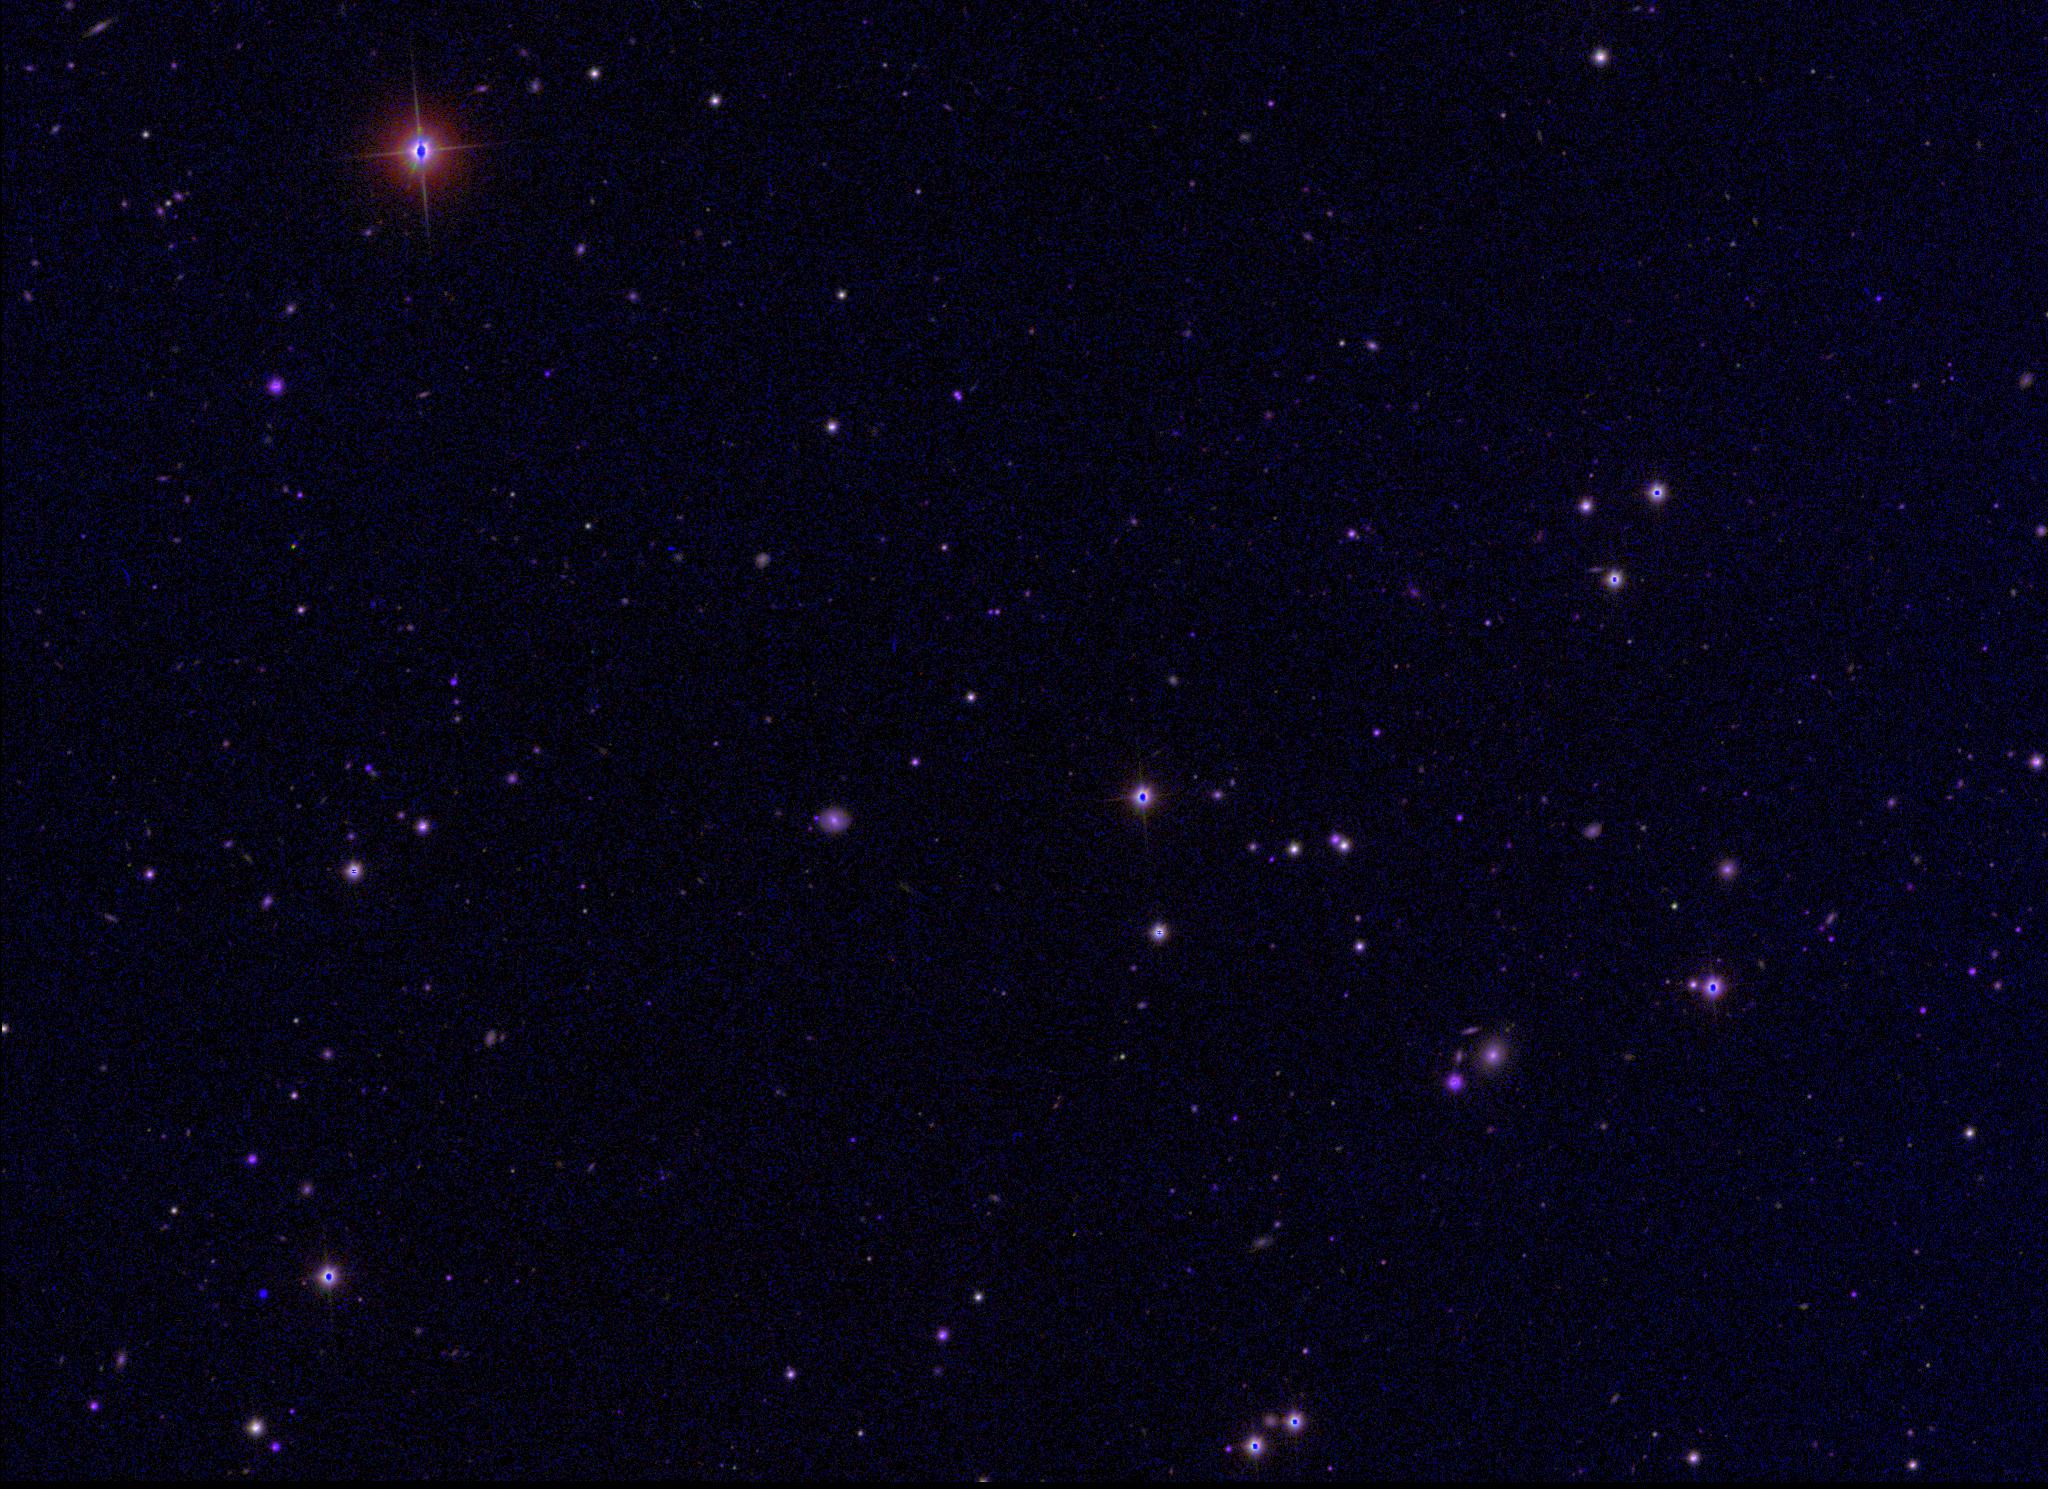L: (258, 1289, 270, 1301)
